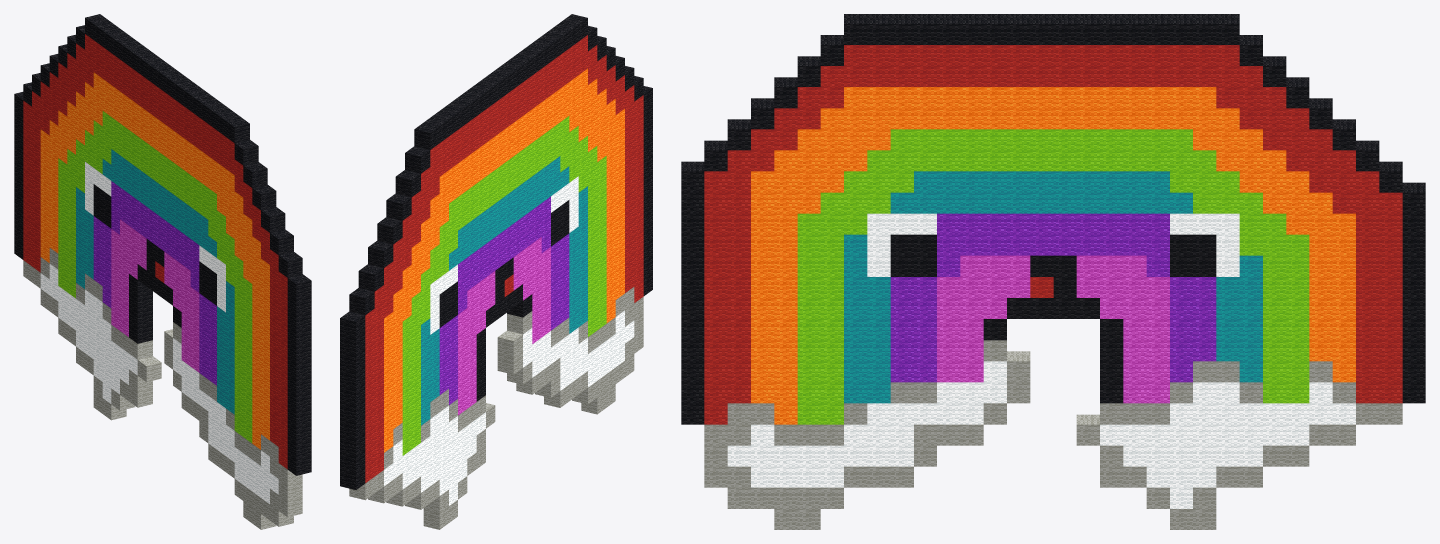
3 views of the same model, side by side, from view 1: azimuth 30°, elevation 25°; view 2: azimuth 150°, elevation 25°; view 3: azimuth 270°, elevation 25° (orthographic). The views are drawn at different scales.
Parts seen in each view (by area): view 1: Object_2; view 2: Object_2; view 3: Object_2.
Part boxes in pixels (x1,y1,x2,y2): Object_2: (14,14,311,529); Object_2: (340,14,652,529); Object_2: (681,14,1425,529).
Size of the model in its own units: 0.0417 by 1 by 1.33.
1 material, 1 textured.
